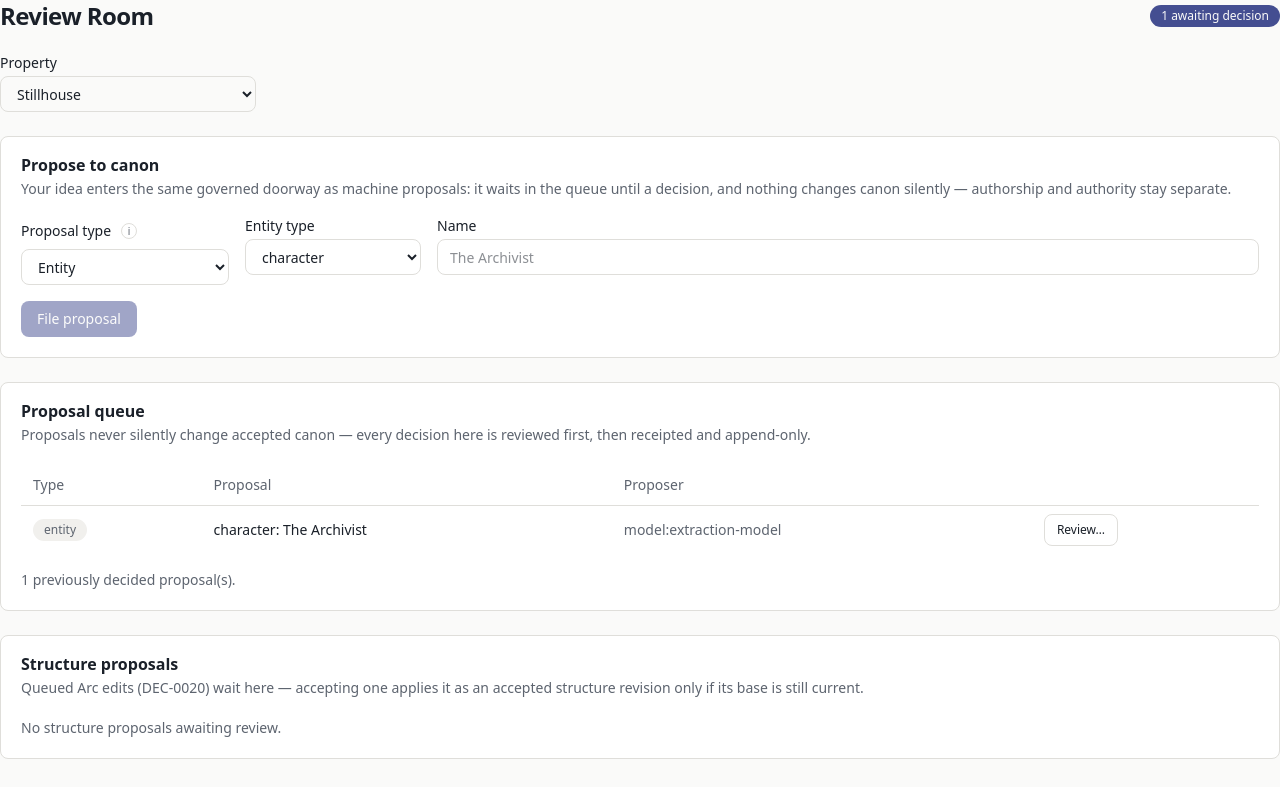
Test: Review Room — proposal provenance and impact (SWUX-011) › labels a new subject with no current value and no covering production
This screenshot has width=1280, height=787.
Check: the text "character: The Archivist" is shown, box [202,505,612,554]
Click the button "Review…": (1081, 530) [1044,514,1118,546]
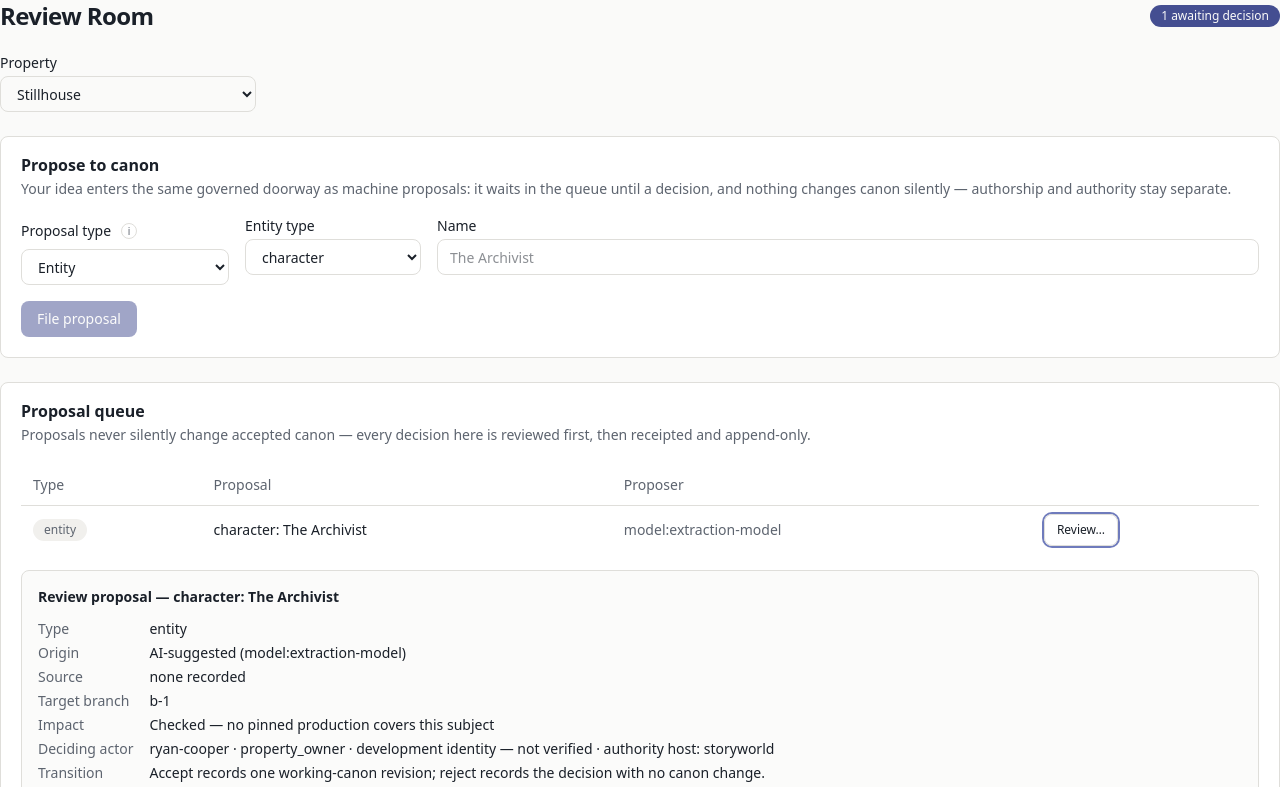
Check: the text "Checked — no pinned production covers this subject" is shown, box [150,714,494,734]
